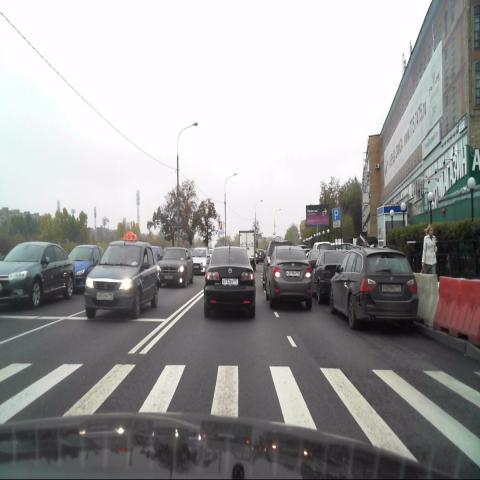6_4: (332, 208, 340, 222)
